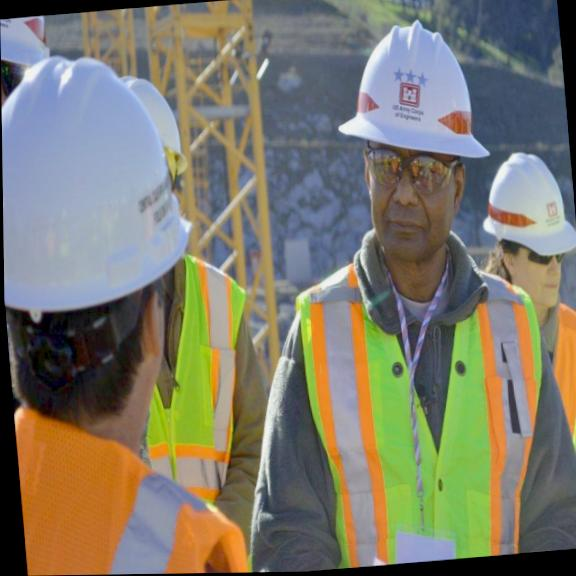safety_vest: (286, 253, 570, 568), (99, 217, 270, 522), (461, 264, 576, 530)
